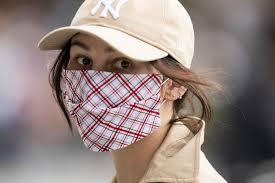cap: (33, 0, 202, 70)
mask: (55, 65, 171, 161)
